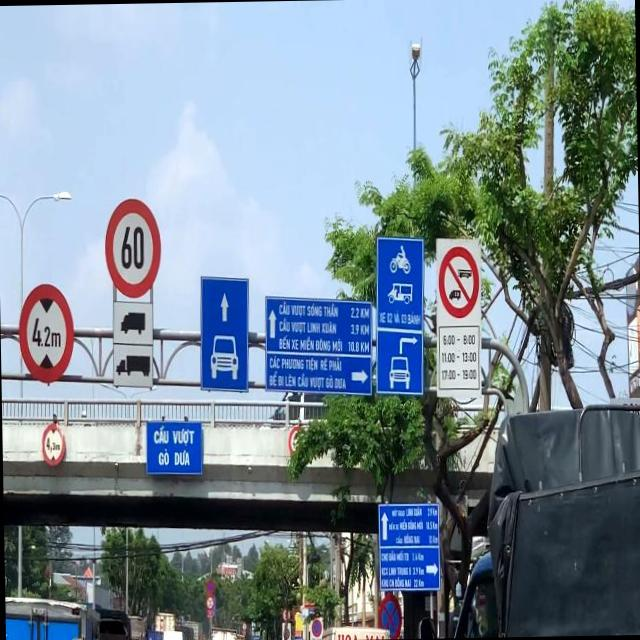P-117: (15, 281, 72, 382)
